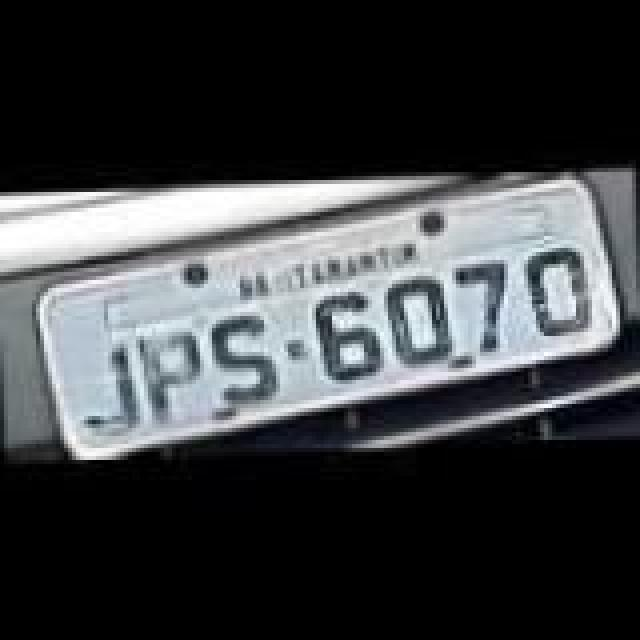6: (312, 290, 384, 386)
7: (458, 262, 518, 362)
J: (78, 346, 150, 446)
O: (384, 268, 464, 364), (522, 244, 598, 340)
P: (134, 322, 210, 422)
S: (208, 310, 280, 410)
